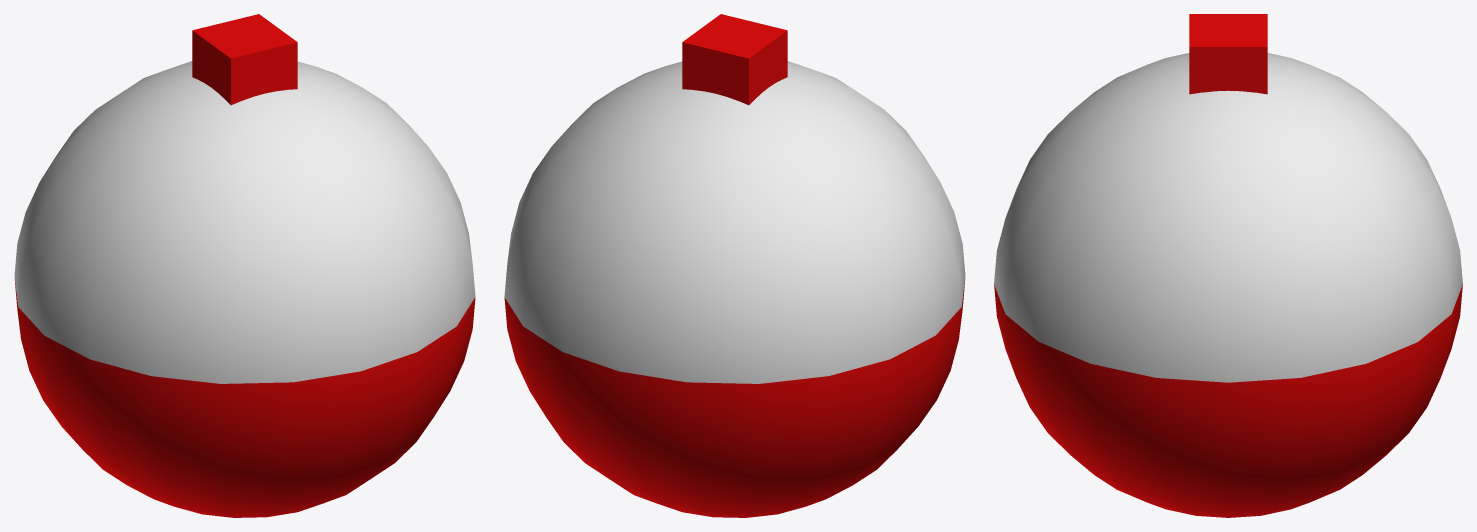
Rendered from FishingBobber.fbx.
3 views of the same model, side by side, from view 1: azimuth 30°, elevation 25°; view 2: azimuth 150°, elevation 25°; view 3: azimuth 270°, elevation 25° (orthographic).
Visible parts, largest first — view 1: FishingBobber; view 2: FishingBobber; view 3: FishingBobber.
Part boxes in pixels (x1,y1,x2,y2): FishingBobber: [14, 14, 475, 517]; FishingBobber: [504, 14, 965, 517]; FishingBobber: [994, 14, 1462, 517].
Bounding box in the file's own units: 6 × 6.57 × 6.
